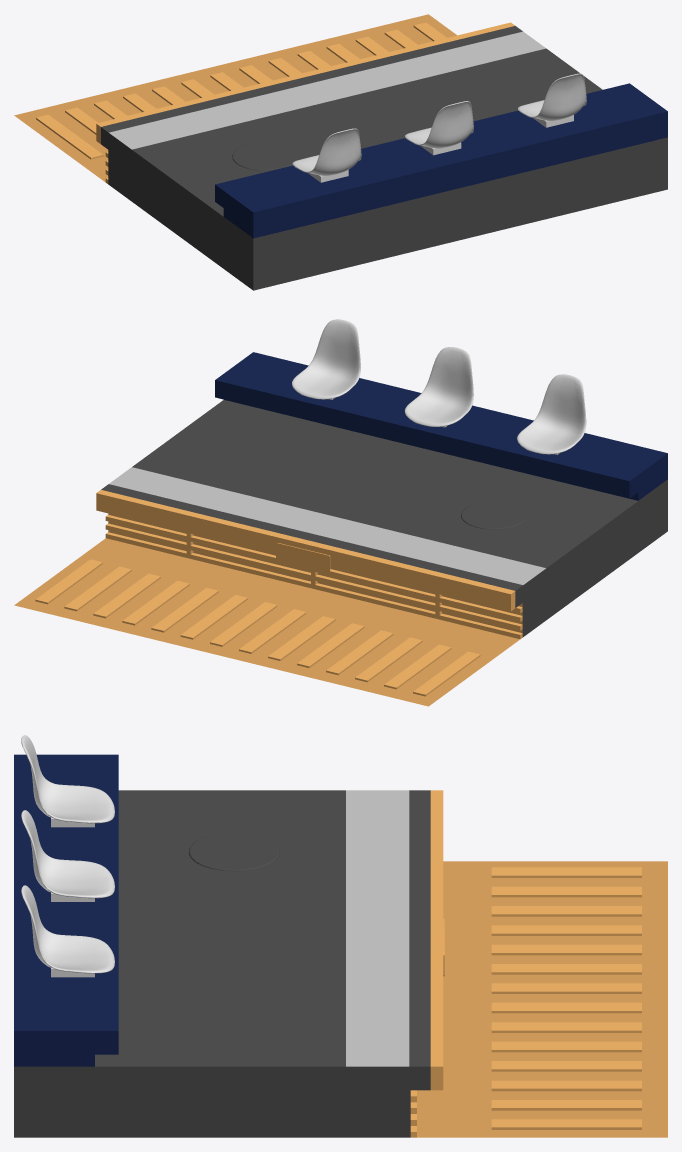
The model's file is orelsan_base-scene2.obj.
3 views of the same model, one above another, from view 1: azimuth 30°, elevation 25°; view 2: azimuth 150°, elevation 25°; view 3: azimuth 270°, elevation 25° (orthographic). The views are drawn at different scales.
Visible parts, largest first — view 1: Base_quai_2, Base_sièges_2, Base_scène_1, Bandes_2, Siège_1_2, Siège_2_2, Siège_3_2, Cylinder_2; view 2: Base_quai_2, Base_scène_1, Base_sièges_2, Bandes_2, Sous-quai_2, Siège_1_2, Siège_3_2, Siège_2_2, Cylinder_2, Panneau_2; view 3: Base_quai_2, Base_scène_1, Bandes_2, Base_sièges_2, Siège_1_2, Siège_3_2, Siège_2_2, Cylinder_2.
Boxes of the visible parts, left/top/right/bottom form: Base_quai_2: left=96, top=22, right=667, bottom=290; Base_sièges_2: left=215, top=83, right=667, bottom=238; Base_scène_1: left=14, top=14, right=456, bottom=182; Bandes_2: left=36, top=22, right=446, bottom=159; Siège_1_2: left=292, top=128, right=361, bottom=182; Siège_2_2: left=405, top=101, right=473, bottom=155; Siège_3_2: left=518, top=73, right=586, bottom=127; Cylinder_2: left=232, top=142, right=298, bottom=170; Base_quai_2: left=96, top=400, right=667, bottom=637; Base_scène_1: left=14, top=538, right=519, bottom=706; Base_sièges_2: left=215, top=352, right=667, bottom=500; Bandes_2: left=35, top=559, right=480, bottom=696; Sous-quai_2: left=105, top=515, right=522, bottom=639; Siège_1_2: left=517, top=374, right=586, bottom=454; Siège_3_2: left=292, top=319, right=360, bottom=399; Siège_2_2: left=404, top=347, right=473, bottom=427; Cylinder_2: left=461, top=501, right=527, bottom=529; Panneau_2: left=276, top=543, right=330, bottom=572; Base_quai_2: left=14, top=790, right=443, bottom=1137; Base_scène_1: left=417, top=861, right=667, bottom=1137; Bandes_2: left=491, top=867, right=641, bottom=1129; Base_sièges_2: left=14, top=754, right=118, bottom=1066; Siège_1_2: left=21, top=735, right=114, bottom=827; Siège_3_2: left=21, top=885, right=114, bottom=977; Siège_2_2: left=21, top=810, right=114, bottom=901; Cylinder_2: left=188, top=832, right=279, bottom=871.
Size of the model in its own units: 500 by 156 by 500.
